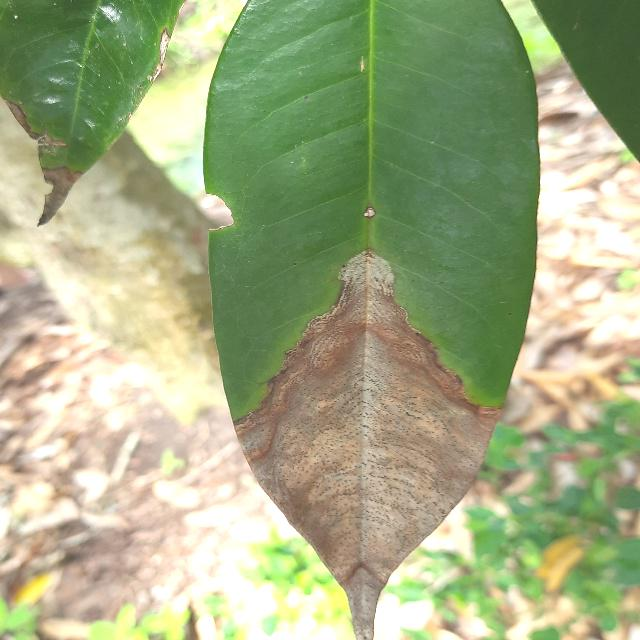Leaf Blight: (194, 0, 549, 639)
